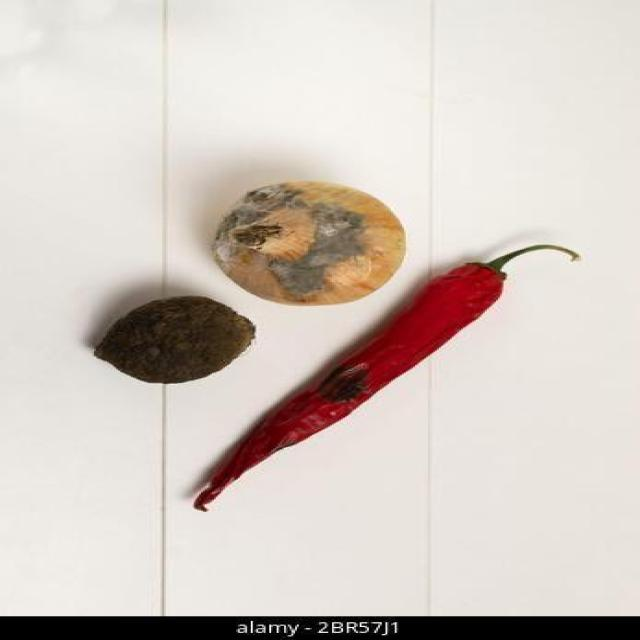Onion: (193, 182, 410, 307)
